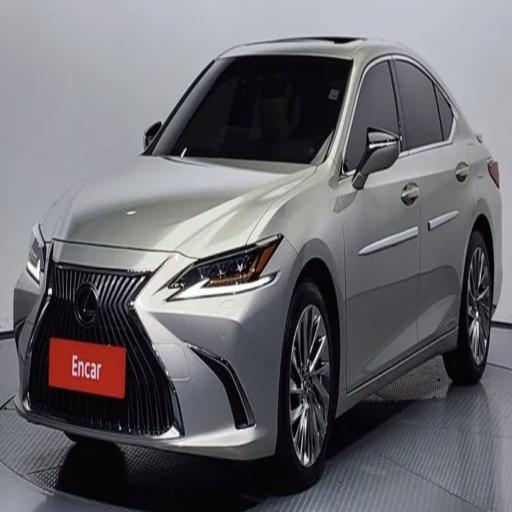normal: (6, 10, 509, 494)
